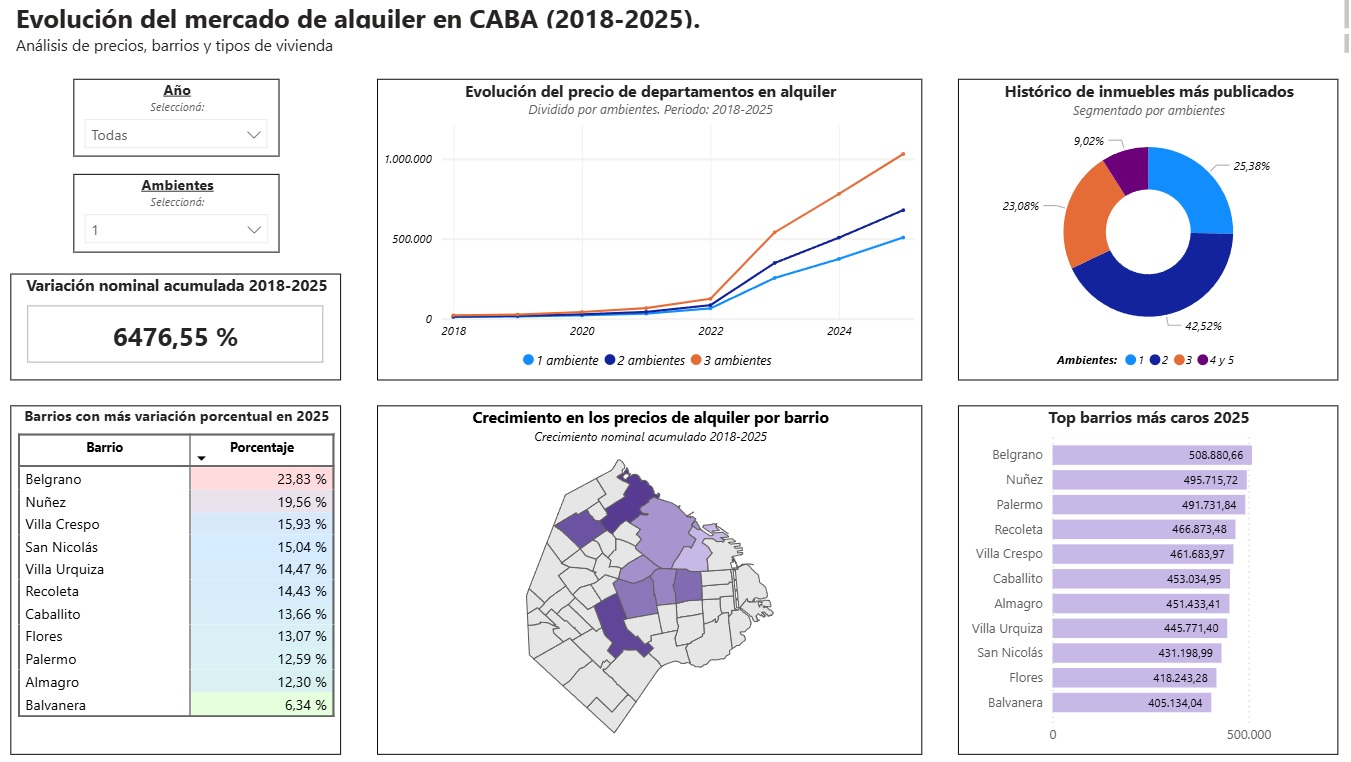

The page's visual inventory and layout, read from the dashboard file:
{"tool":"powerbi","page":{"name":"Página 1","canvas":[1280,720],"ordinal":0},"visuals":[{"type":"lineChart","title":"Evolución del precio de departamentos en alquiler","fields":{"Category":["Precio promedio ambientes.Año"],"Y":["Max(Precio promedio ambientes.1_ambiente)","Max(Precio promedio ambientes.2_ambientes)","Max(Precio promedio ambientes.3_ambientes)"]},"box":[366.1,79,508.1,280.7],"z":0},{"type":"donutChart","title":"Histórico de inmuebles más publicados","fields":{"Y":["Sum(Porcentaje_ambientes.1_ambiente)","Sum(Porcentaje_ambientes.2_ambientes)","Sum(Porcentaje_ambientes.3_ambientes)","Sum(Porcentaje_ambientes.4y5_ambientes)"]},"box":[907.3,79,354.4,280.7],"z":1000},{"type":"shapeMap","title":"Crecimiento en los precios de alquiler por barrio","fields":{"Category":["Alquiler_CABA.Barrio"],"Value":["Alquiler_CABA.Crecimiento"]},"box":[366.1,383.2,508.1,325.6],"z":2000},{"type":"tableEx","title":"Barrios con más variación porcentual en 2025","fields":{"Values":["Alquiler_CABA.Barrio","Alquiler_CABA.Variacion % 2025"]},"box":[24.6,383.2,308.5,325.6],"z":3000},{"type":"barChart","title":"Top barrios más caros 2025","fields":{"Category":["Alquiler_CABA.Barrio"],"Y":["Alquiler_CABA.Precio actual 2025"]},"box":[907.3,383.2,354.4,325.6],"z":4000},{"type":"textbox","box":[24.6,0,1255.3,39.5],"z":5000},{"type":"textbox","box":[24.6,32,1255.3,28.8],"z":6000},{"type":"cardVisual","title":"Variación nominal acumulada 2018-2025","fields":{"Data":["promedio_precio.crecimiento_acumulado"]},"box":[24.6,260.4,308.5,99.3],"z":7000},{"type":"slicer","title":"Ambientes","fields":{"Values":["Consulta1.Ambientes"]},"box":[83.3,167.6,192.1,73.7],"z":8000},{"type":"slicer","title":"Año","fields":{"Values":["Porcentaje_ambientes.Año"]},"box":[83.5,78.5,191.9,72.3],"z":9000}]}

Visuals, with their boxes in screenshot pixels (x1, y1, x2, y2), scaled from the page's 1280x720 canvas onto the 1351x762 screenshot:
"Evolución del precio de departamentos en alquiler" lineChart: [left=386, top=84, right=923, bottom=381]
"Histórico de inmuebles más publicados" donutChart: [left=958, top=84, right=1332, bottom=381]
"Crecimiento en los precios de alquiler por barrio" shapeMap: [left=386, top=406, right=923, bottom=750]
"Barrios con más variación porcentual en 2025" tableEx: [left=26, top=406, right=352, bottom=750]
"Top barrios más caros 2025" barChart: [left=958, top=406, right=1332, bottom=750]
textbox: [left=26, top=0, right=1350, bottom=42]
textbox: [left=26, top=34, right=1350, bottom=64]
"Variación nominal acumulada 2018-2025" cardVisual: [left=26, top=276, right=352, bottom=381]
"Ambientes" slicer: [left=88, top=177, right=291, bottom=255]
"Año" slicer: [left=88, top=83, right=291, bottom=160]
